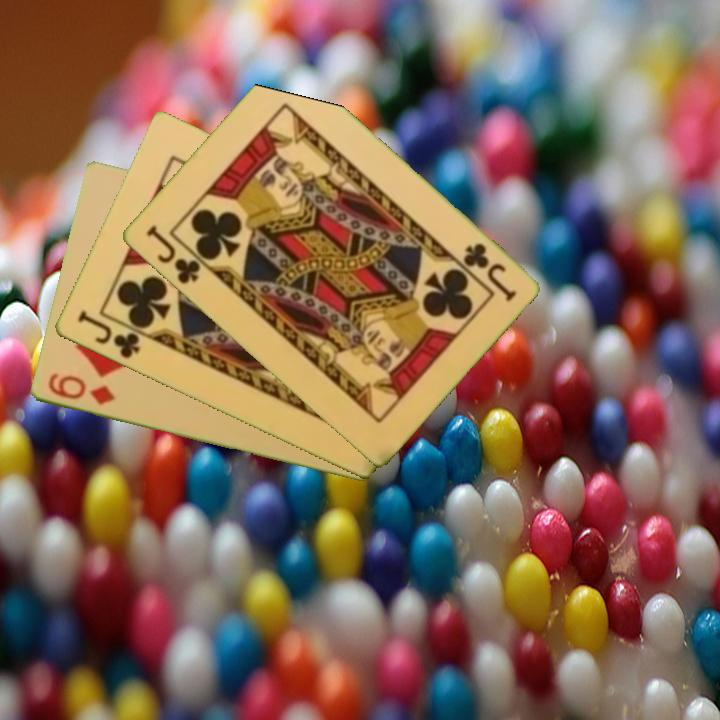6d: (44, 370, 118, 408)
Jc: (141, 221, 203, 288), (459, 239, 519, 305), (73, 307, 142, 362)
